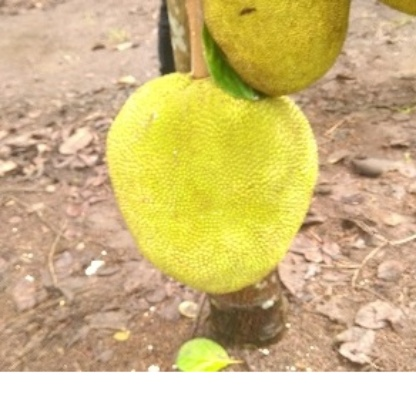mit: (107, 67, 316, 290), (196, 4, 357, 109)
